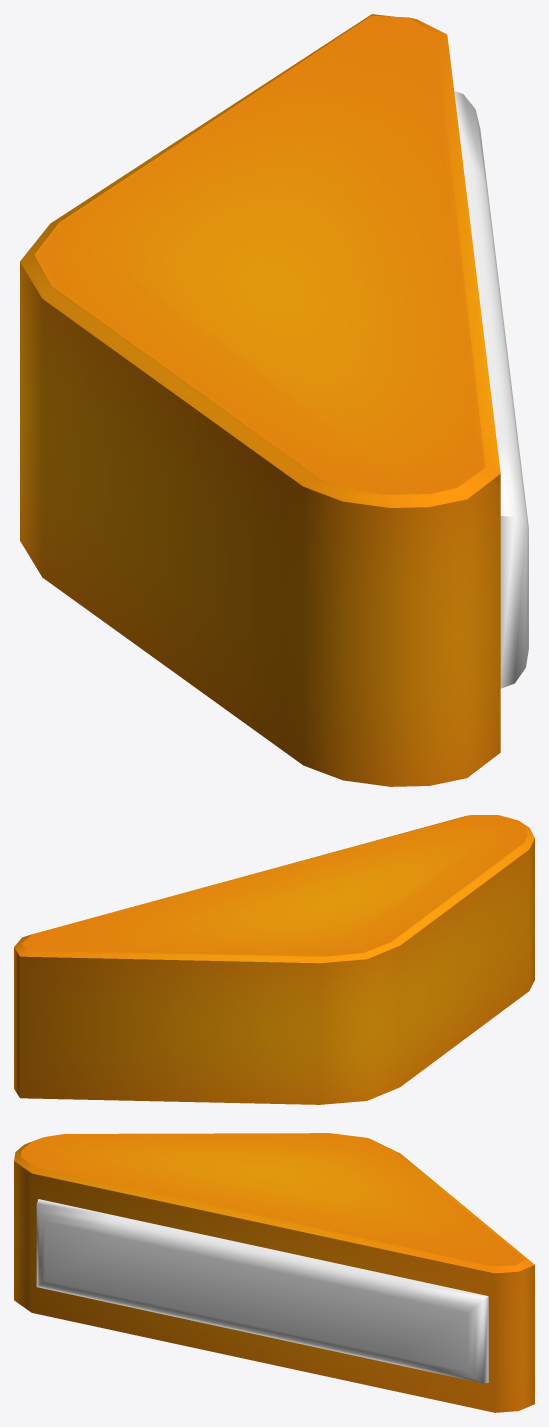
Rendered from block_bumper_big_mirror.fbx.
The picture shows the model from 3 angles, top to bottom: view 1: azimuth 30°, elevation 25°; view 2: azimuth 150°, elevation 25°; view 3: azimuth 270°, elevation 25°; orthographic projection. The views are drawn at different scales.
Parts seen in each view (by area): view 1: block_bumper_big_mirror, bumper; view 2: block_bumper_big_mirror; view 3: block_bumper_big_mirror, bumper.
Part boxes in pixels (box(x1,y1,x2,y2)): block_bumper_big_mirror: box(20, 14, 500, 786); bumper: box(454, 91, 528, 688); block_bumper_big_mirror: box(14, 815, 534, 1104); block_bumper_big_mirror: box(14, 1133, 534, 1412); bumper: box(36, 1199, 488, 1383).
Bounding box in the file's own units: 381 × 178 × 589.
1 material, 1 textured.
